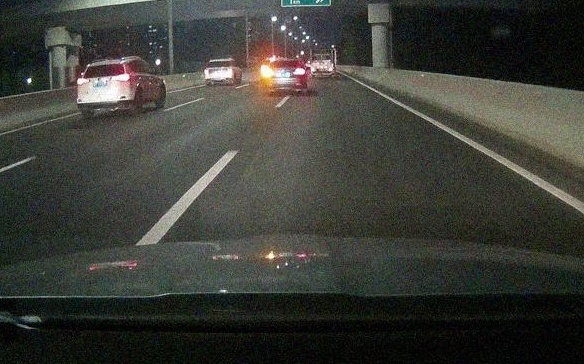L_light: (77, 78, 90, 84), (264, 70, 274, 76), (204, 69, 211, 73)
R_light: (113, 73, 130, 82), (293, 68, 305, 75), (226, 69, 233, 72)
T_light: (98, 64, 110, 67), (282, 60, 290, 62), (216, 61, 222, 62)
night-left: (263, 58, 307, 94)
night-no: (76, 59, 135, 119), (204, 58, 234, 84)
